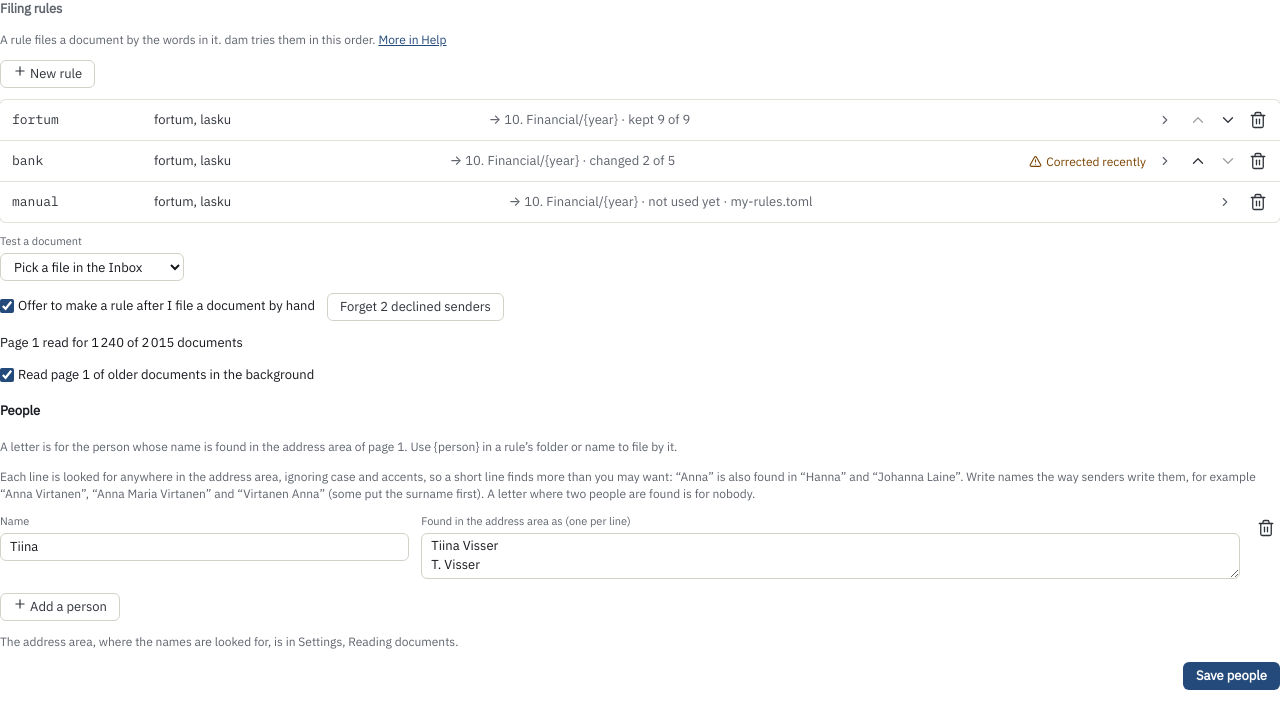
Scenario: FilingRules › opens a rule in its sheet
Click the button "fortum fortum, lasku → 10. Financial/{year} · kept 9 of 9": click(592, 120) x1=0 y1=100 x2=1184 y2=140
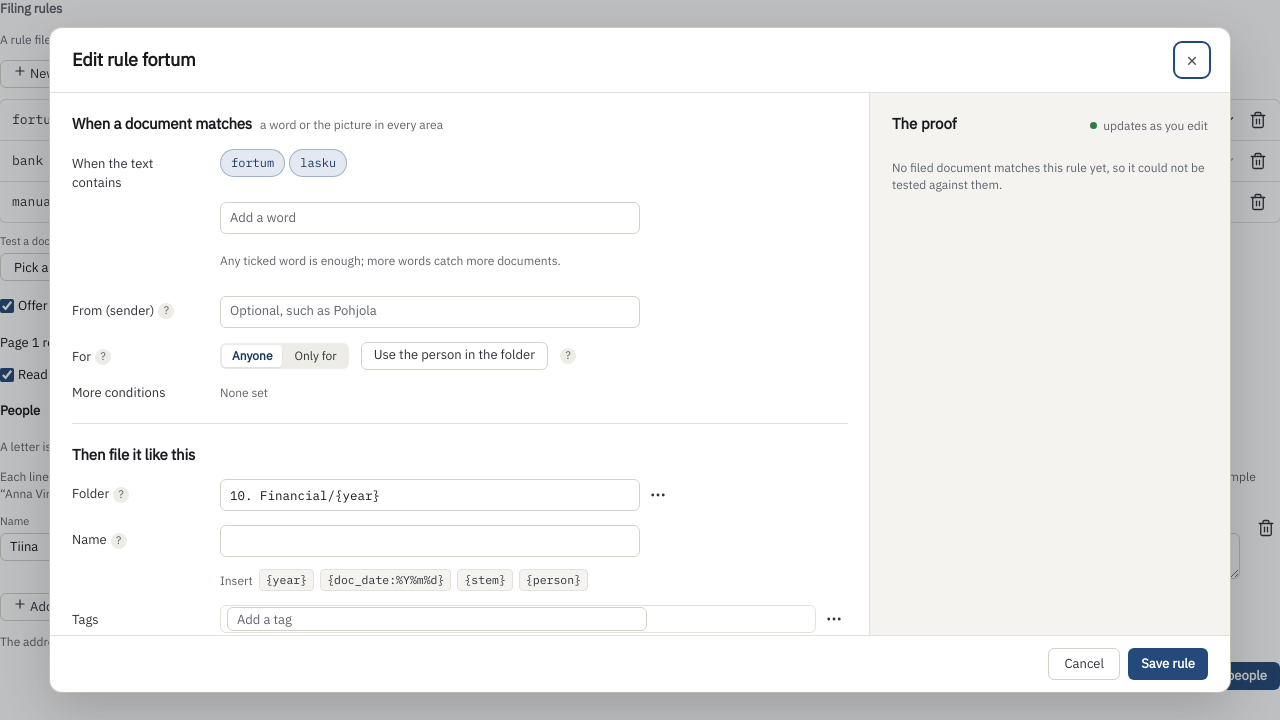
Check: the dialog "Edit rule fortum" is shown
